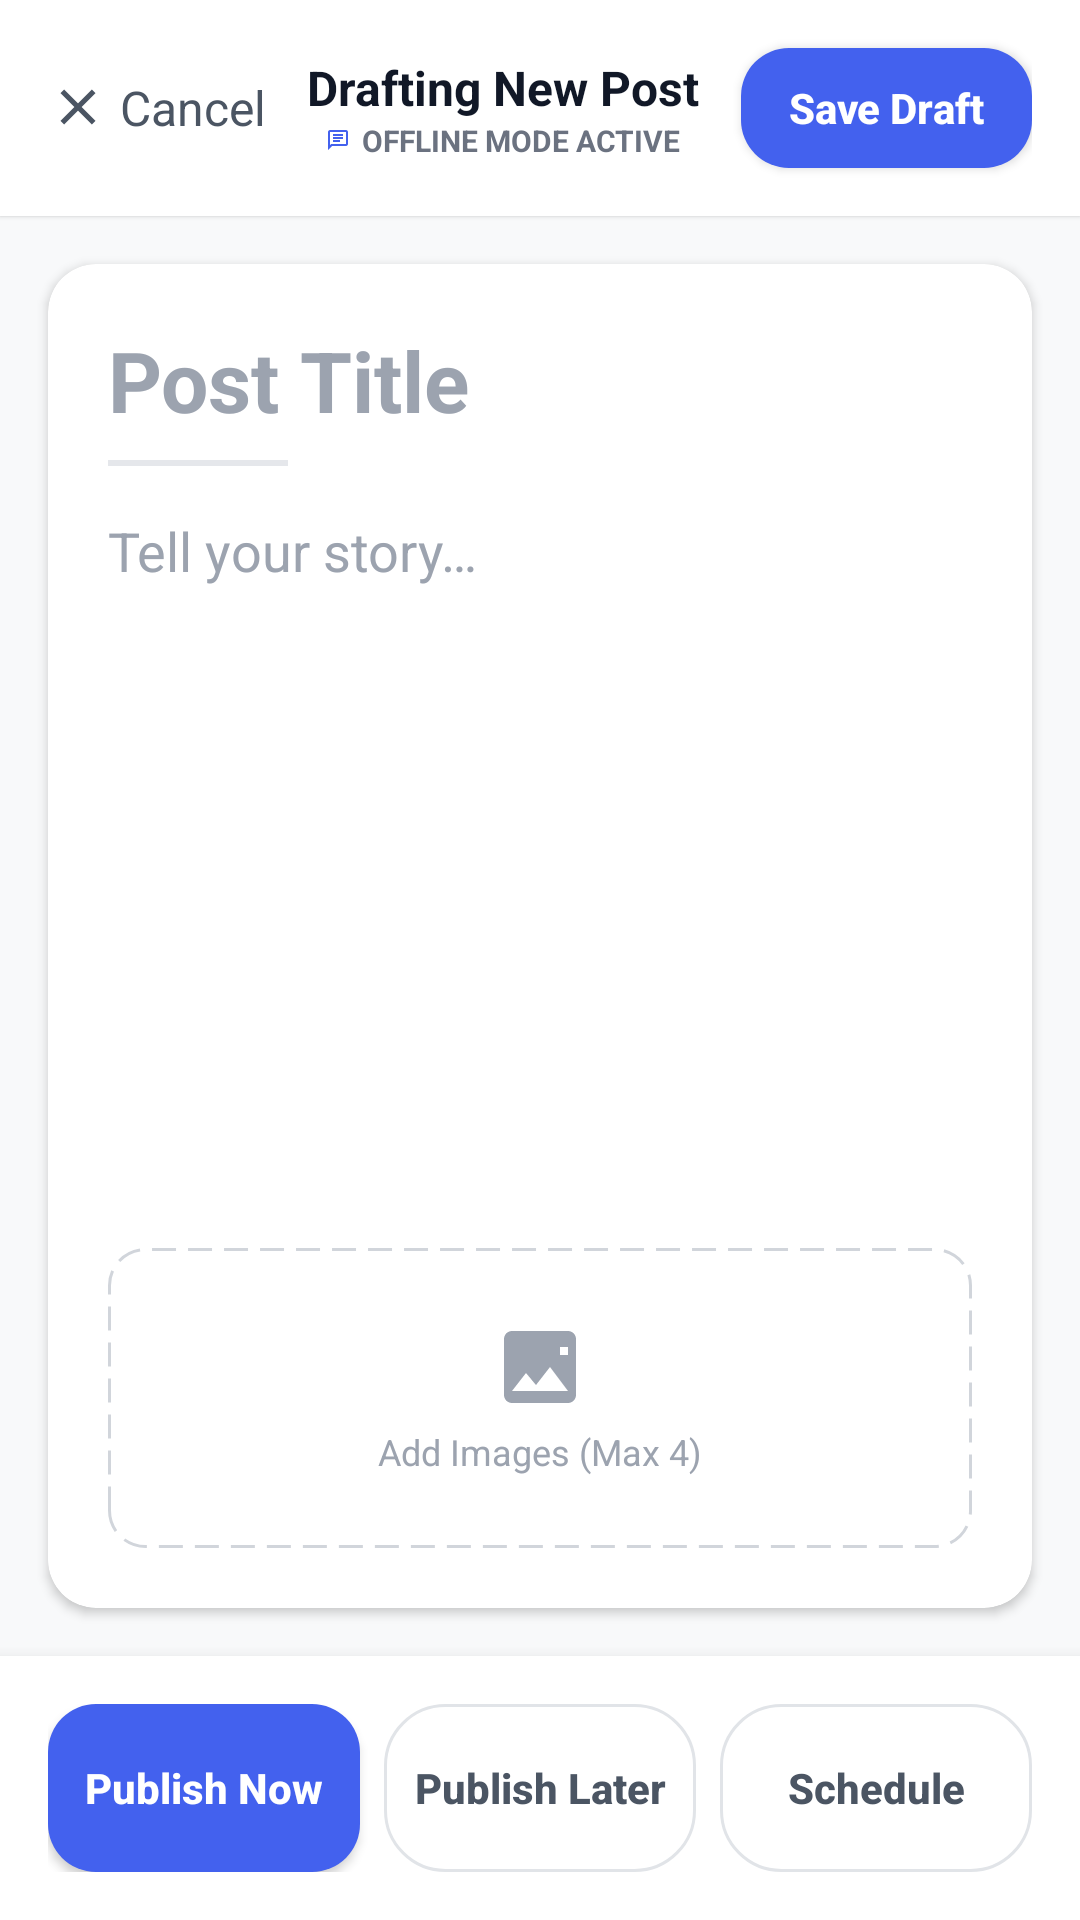

Locate icon controls on the screen. Image size 1080px×1920px, boxes as (x1, y1, x2, y2).
close: (60, 89, 96, 125)
